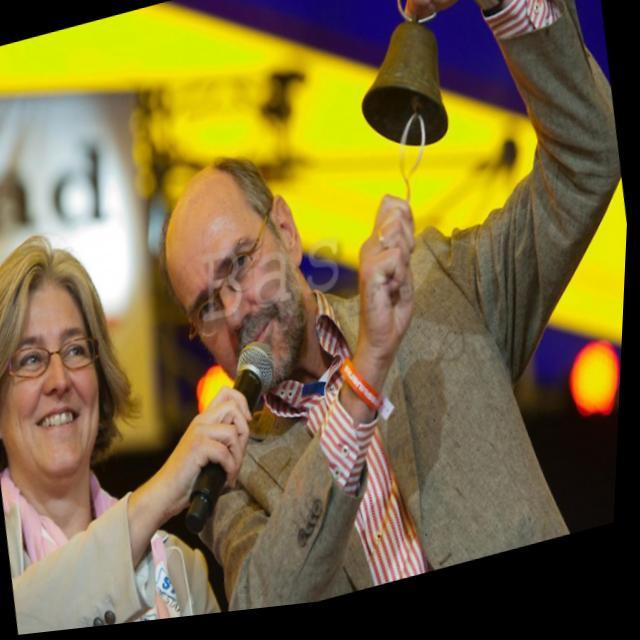Nonhelmet: (158, 154, 315, 389), (0, 233, 139, 479)
